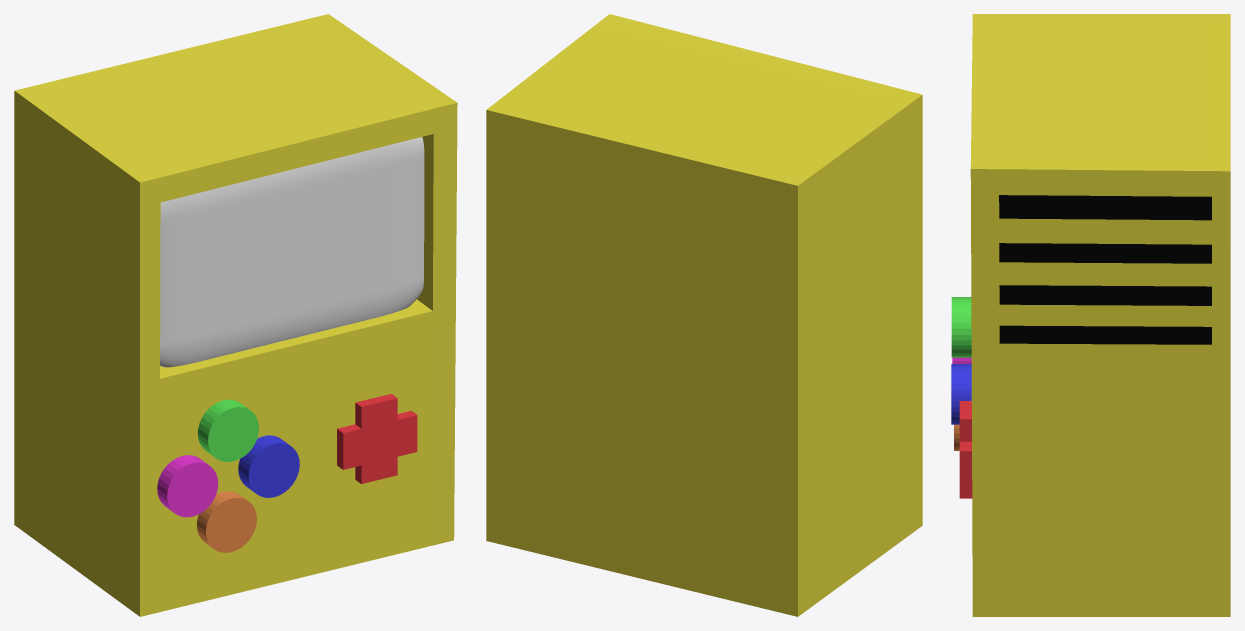
File: моделька.fbx
3 renders of one model, left to right at view 1: azimuth 30°, elevation 25°; view 2: azimuth 150°, elevation 25°; view 3: azimuth 270°, elevation 25°, orthographic. The views are drawn at different scales.
Parts seen in each view (by area): view 1: Куб, Куб.001, Куб.003, Цилиндр, Цилиндр.001, Цилиндр.002, Цилиндр.003; view 2: Куб; view 3: Куб, Куб.002, Куб.003, Цилиндр, Цилиндр.002.
Boxes of the visible parts, x1,y1,x2,y2 form: Куб: [14, 14, 457, 616]; Куб.001: [160, 137, 424, 367]; Куб.003: [337, 394, 417, 483]; Цилиндр: [197, 399, 258, 461]; Цилиндр.001: [157, 455, 218, 517]; Цилиндр.002: [238, 435, 299, 497]; Цилиндр.003: [197, 491, 256, 552]; Куб: [486, 14, 922, 616]; Куб: [970, 14, 1230, 616]; Куб.002: [999, 195, 1211, 344]; Куб.003: [959, 401, 972, 498]; Цилиндр: [951, 297, 971, 357]; Цилиндр.002: [951, 364, 971, 424].
Size of what is drawn, in the model's own units: 256 by 339 by 191.
